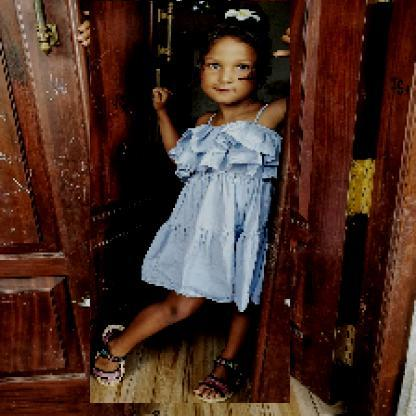child: (91, 2, 292, 405)
